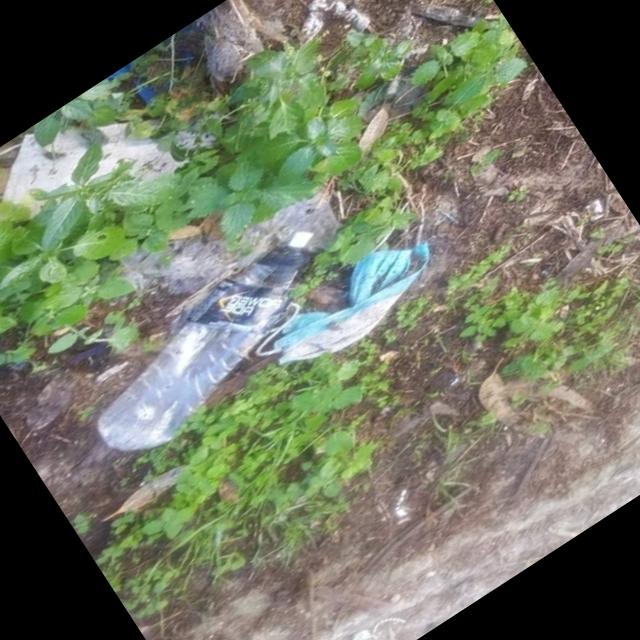Bottle: (85, 228, 317, 451)
Other litter: (267, 244, 440, 366), (202, 0, 374, 76)
Other plastic: (5, 109, 209, 219), (124, 184, 336, 288), (104, 25, 189, 99), (67, 342, 111, 369)
